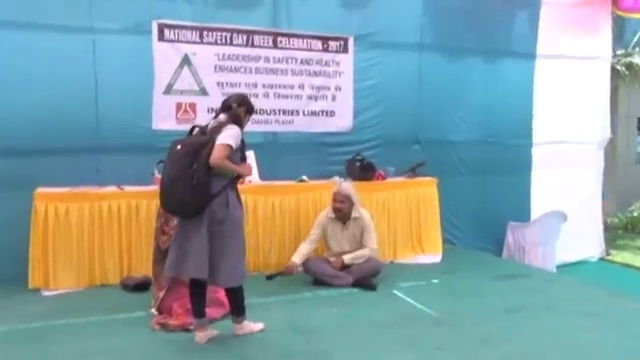helmet_off: (218, 93, 255, 131), (330, 186, 355, 221)
person: (157, 93, 264, 341), (286, 183, 382, 291)
